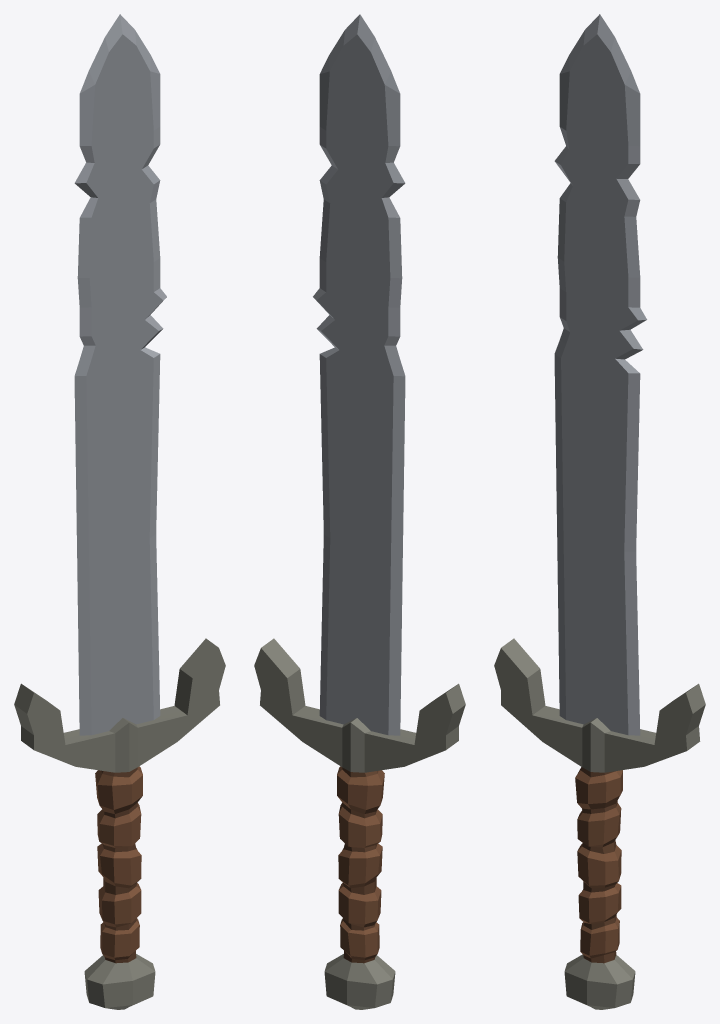
File: Sword.glb
The picture shows the model from 3 angles, left to right: view 1: azimuth 30°, elevation 25°; view 2: azimuth 150°, elevation 25°; view 3: azimuth 330°, elevation 25°; orthographic projection.
Visible parts, largest first — view 1: Sword; view 2: Sword; view 3: Sword.
Boxes of the visible parts, box(x1,y1,x2,y2) form: Sword: box(14, 14, 225, 1009); Sword: box(254, 14, 465, 1009); Sword: box(494, 14, 705, 1009).
Bounding box in the file's own units: 1.14 × 5.45 × 0.2611.
